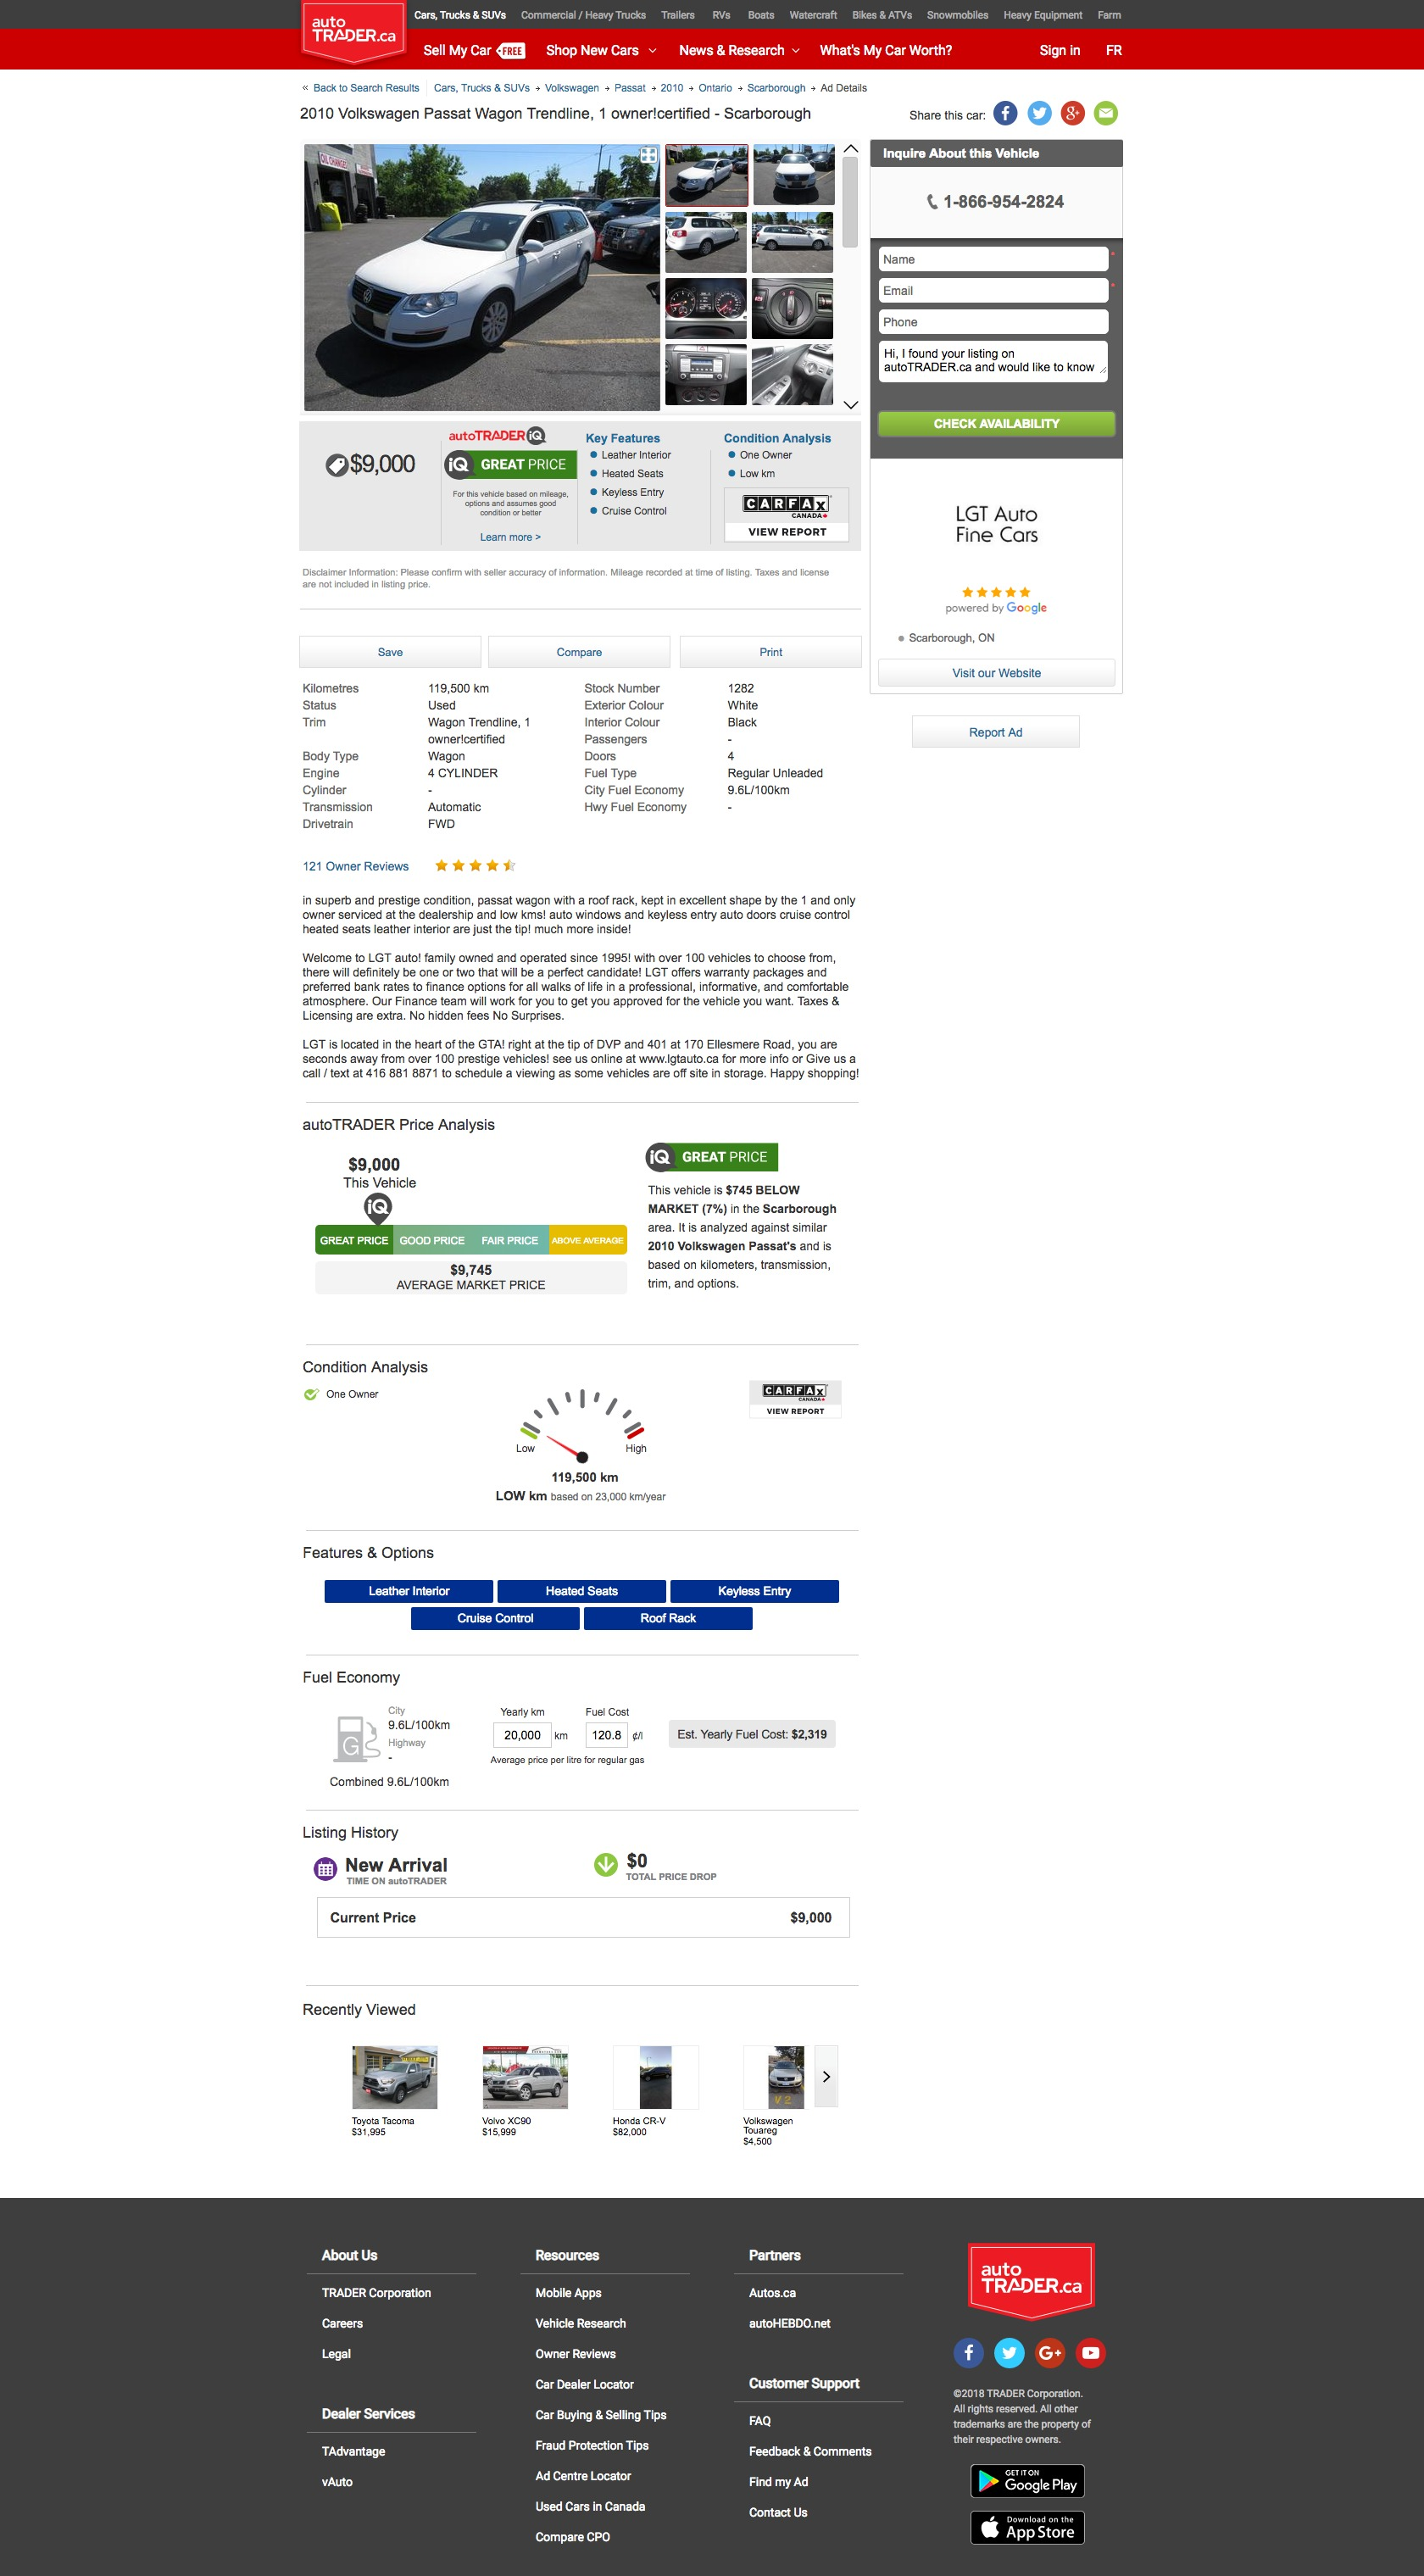car: (844, 400, 859, 414)
